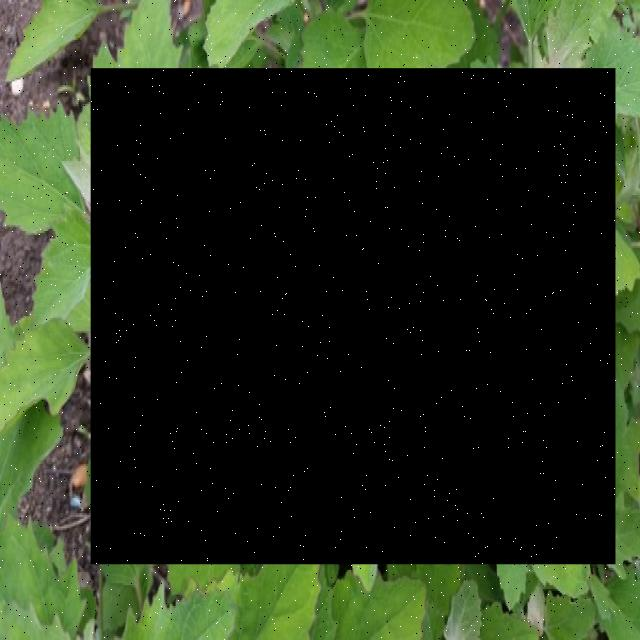Bethu_ko_Saag: (91, 68, 615, 564)
